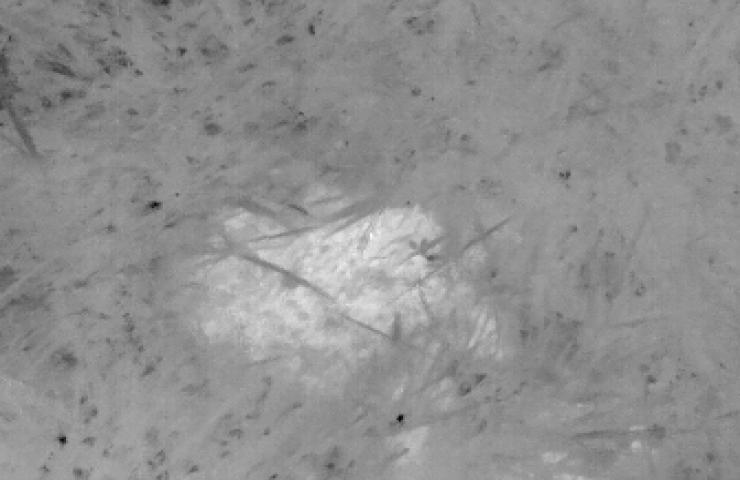landmines: (197, 203, 463, 361)
